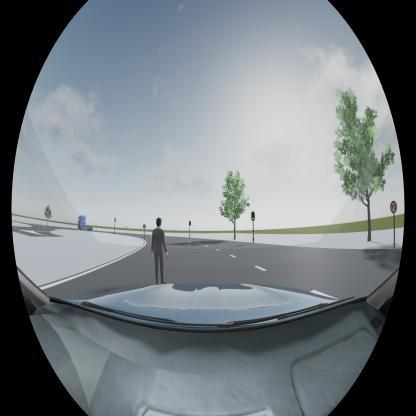Green Light: (251, 212, 254, 221)
Red Light: (189, 221, 191, 226)
